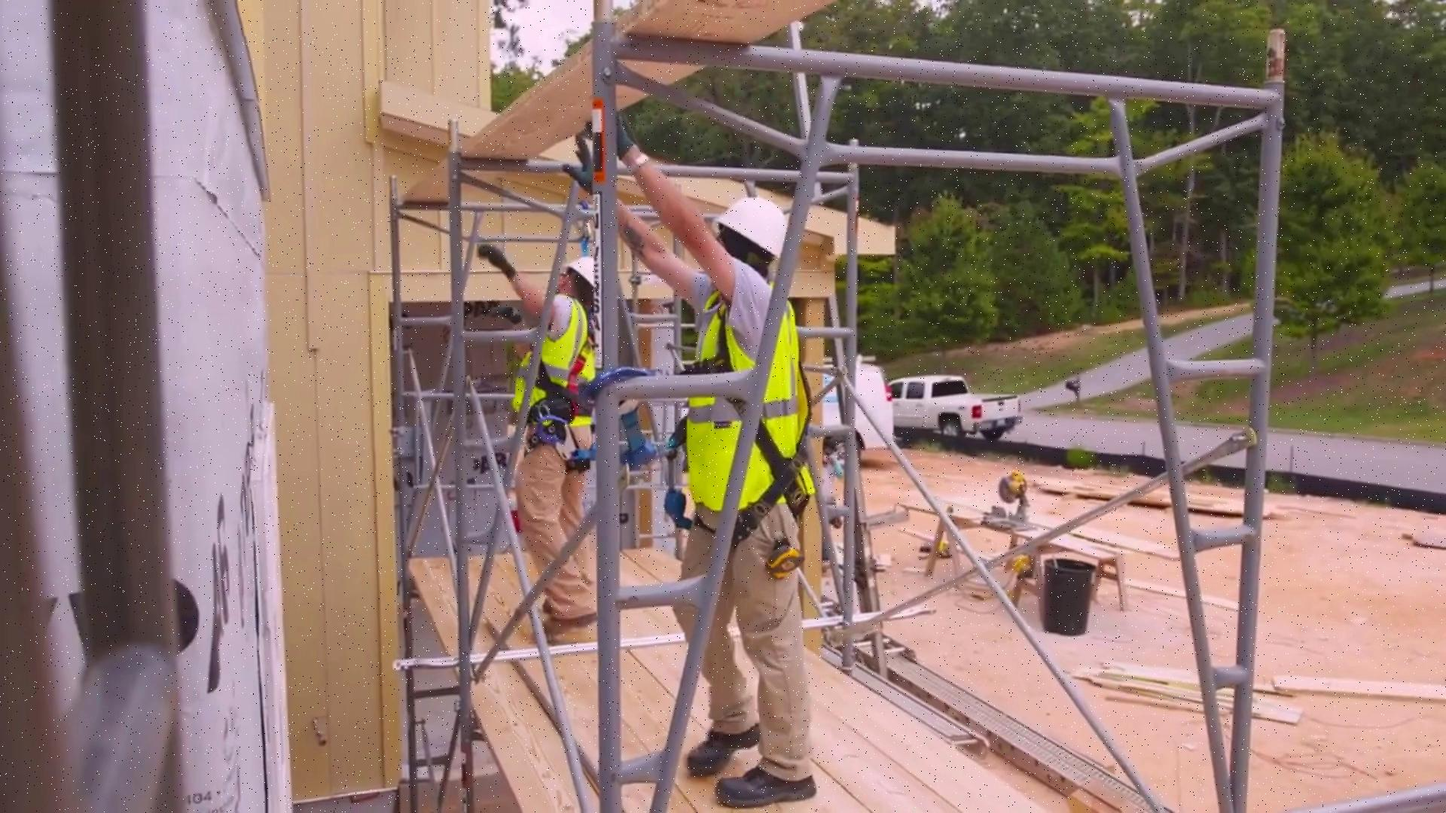Hard_hat: (701, 185, 799, 253), (562, 247, 608, 290)
Vest: (654, 294, 825, 526), (505, 303, 614, 435)
